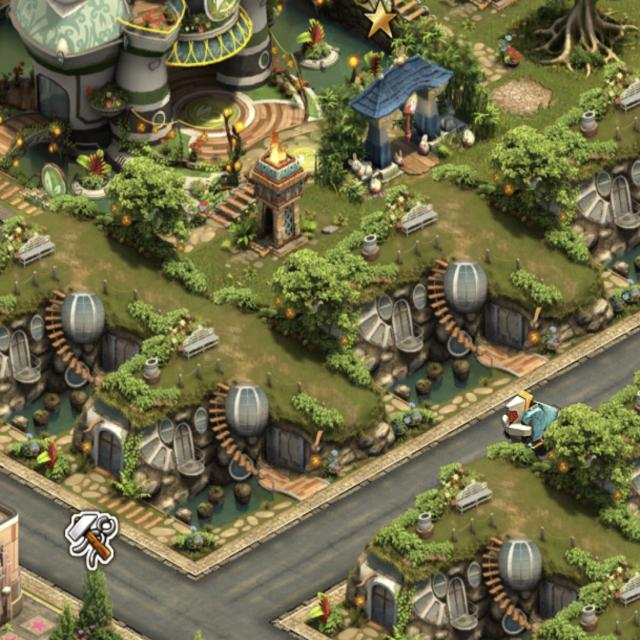star: (354, 0, 407, 47)
tool: (58, 507, 131, 575)
